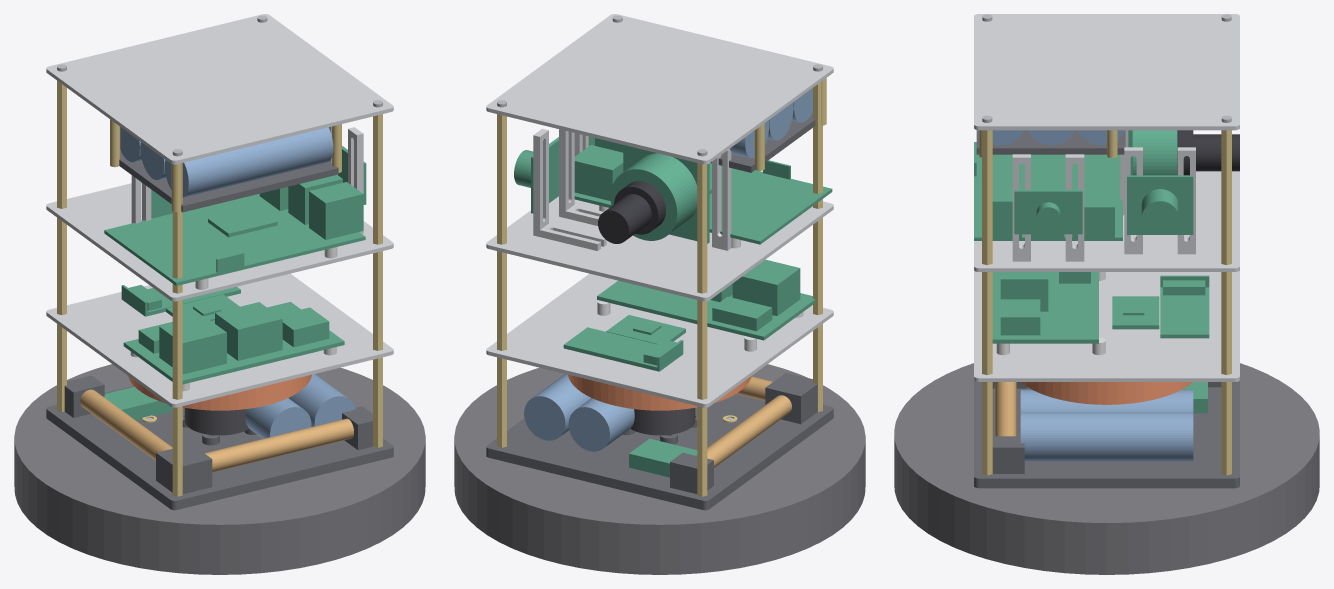
The model's file is cubesat_cad_rev0.glb.
The picture shows the model from 3 angles, left to right: view 1: azimuth 30°, elevation 25°; view 2: azimuth 150°, elevation 25°; view 3: azimuth 270°, elevation 25°; orthographic projection. The views are drawn at different scales.
Parts seen in each view (by area): view 1: rotating_table, plate_3, raspberry_pi_5, plate_1, base_plate, pdb, plate_2, cell_t1, battery_cradle, mt_x, rw_flywheel, mt_y (+23 smaller); view 2: rotating_table, plate_3, plate_1, base_plate, plate_2, raspberry_pi_5, pdb, hq_camera, arduino, science_lens, bracket_st_2, cell_b2 (+23 smaller); view 3: rotating_table, plate_3, plate_1, base_plate, plate_2, cell_b2, raspberry_pi_5, pdb, star_camera, arduino, ir_camera, rw_flywheel (+18 smaller).
Boxes of the visible parts, x1,y1,x2,y2 form: rotating_table: [14, 364, 425, 574]; plate_3: [46, 14, 393, 164]; raspberry_pi_5: [104, 175, 365, 285]; plate_1: [46, 273, 393, 407]; base_plate: [46, 386, 393, 510]; pdb: [123, 302, 344, 384]; plate_2: [46, 182, 393, 301]; cell_t1: [165, 127, 333, 197]; battery_cradle: [119, 151, 338, 212]; mt_x: [205, 418, 353, 472]; rw_flywheel: [128, 374, 311, 410]; mt_y: [80, 389, 172, 460]; rotating_table: [454, 364, 865, 574]; plate_3: [486, 14, 833, 164]; plate_1: [486, 273, 833, 407]; base_plate: [486, 394, 833, 510]; plate_2: [486, 196, 833, 301]; raspberry_pi_5: [574, 138, 832, 244]; pdb: [597, 259, 815, 340]; hq_camera: [610, 145, 709, 243]; arduino: [563, 327, 683, 371]; science_lens: [598, 181, 665, 243]; bracket_st_2: [533, 128, 606, 250]; cell_b2: [524, 374, 590, 440]; rotating_table: [894, 363, 1319, 574]; plate_3: [974, 14, 1239, 130]; plate_1: [974, 271, 1239, 381]; base_plate: [974, 380, 1239, 488]; plate_2: [974, 171, 1239, 271]; cell_b2: [1020, 412, 1193, 461]; raspberry_pi_5: [974, 142, 1122, 240]; pdb: [992, 272, 1098, 343]; star_camera: [1127, 175, 1193, 234]; arduino: [1160, 275, 1209, 338]; ir_camera: [1014, 190, 1082, 234]; rw_flywheel: [1021, 382, 1192, 404].
Bounding box in the file's own units: 0.1599 × 0.1773 × 0.16.
